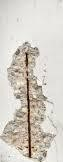Exposed reinforcement: (24, 52, 32, 159)
Spalling: (1, 41, 57, 162)
